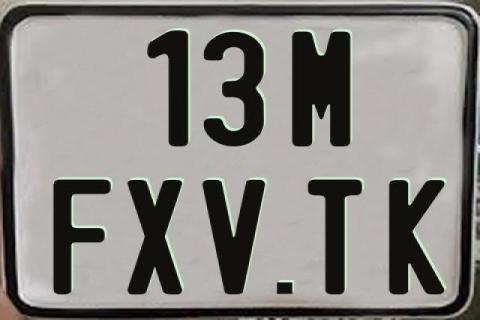0: (200, 32, 264, 150), (147, 30, 192, 148)
F: (51, 177, 111, 295)
K: (388, 179, 449, 297)
M: (292, 29, 356, 149)
T: (306, 178, 363, 296)
V: (199, 178, 267, 296)
X: (124, 178, 180, 296)
